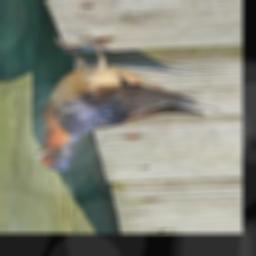Swallow: (33, 33, 201, 171)
